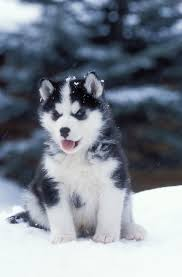Bulldog: (15, 54, 165, 249)
